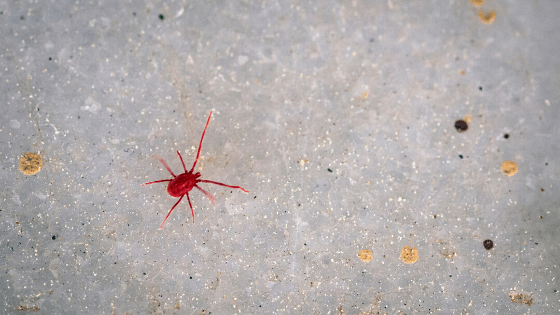Mites: (129, 110, 264, 247)
